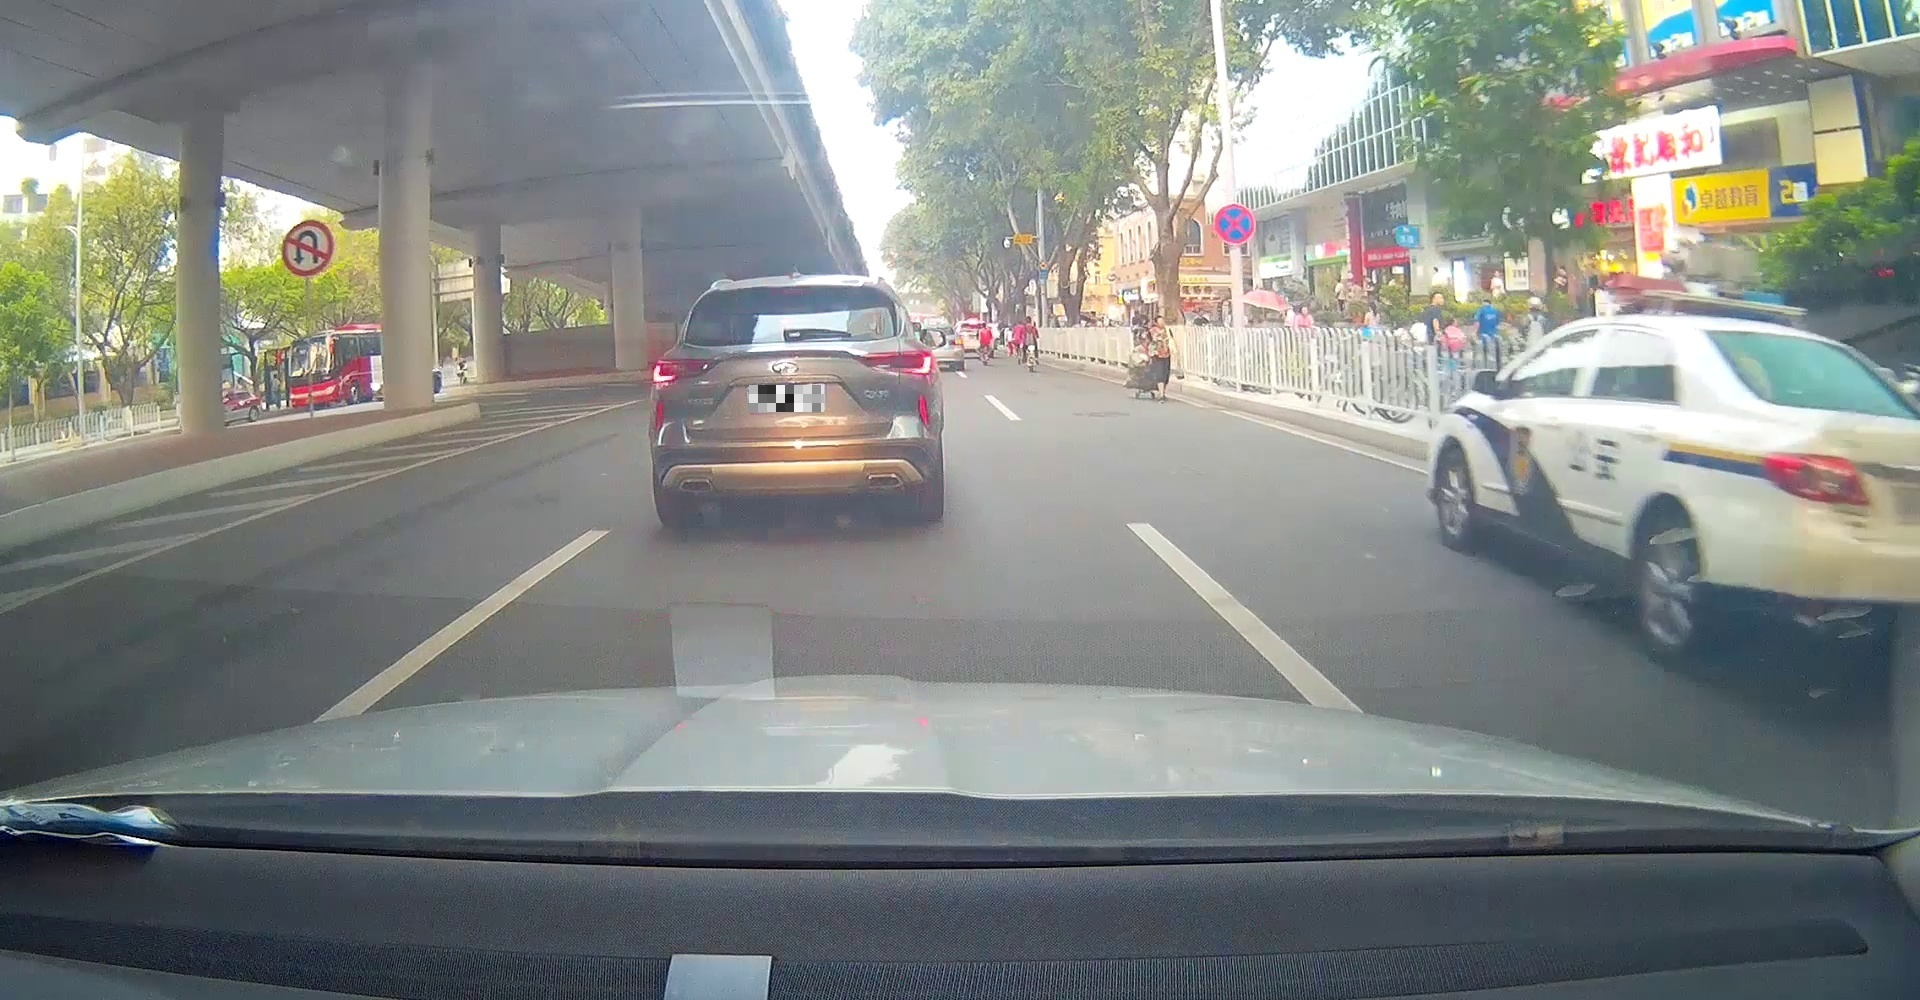L_light: (651, 357, 720, 383)
R_light: (855, 350, 933, 376)
T_light: (775, 286, 813, 293)
day-brake: (648, 274, 945, 525)
plate_1: (749, 385, 824, 412)
